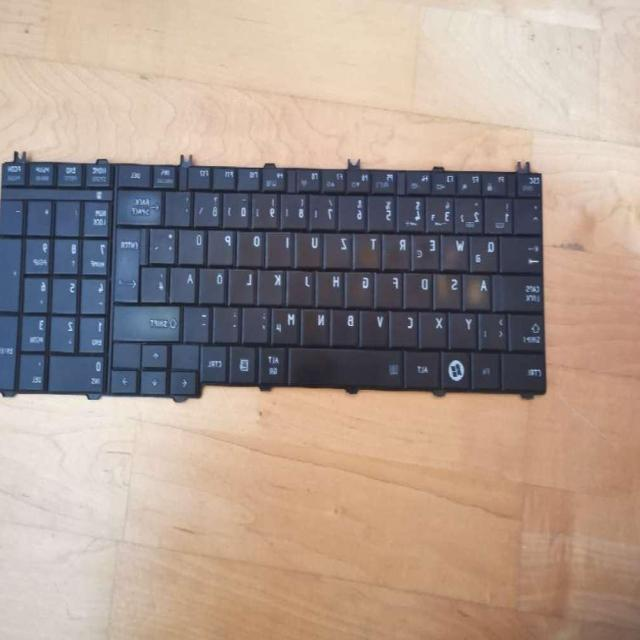0: (226, 188, 253, 226)
1: (488, 194, 516, 232)
2: (458, 193, 486, 231)
3: (429, 192, 457, 230)
4: (401, 193, 427, 229)
5: (371, 192, 399, 228)
6: (342, 191, 370, 229)
7: (313, 191, 339, 227)
8: (284, 190, 311, 226)
9: (255, 188, 282, 226)
a: (467, 271, 494, 307)
accent: (168, 186, 195, 224)
ae: (173, 263, 199, 301)
alt-left: (407, 347, 442, 386)
altgr-right: (262, 342, 290, 381)
b: (334, 306, 362, 344)
c: (394, 307, 421, 345)
caret: (518, 194, 544, 232)
comma: (246, 303, 272, 341)
d: (408, 268, 436, 306)
del: (120, 185, 166, 223)
e: (415, 230, 443, 268)
enter: (117, 221, 149, 299)
f: (379, 269, 405, 305)
g: (349, 267, 377, 305)
h: (319, 268, 347, 304)
hash: (144, 263, 170, 299)
i: (270, 228, 296, 264)
j: (290, 267, 316, 303)
k: (262, 266, 288, 302)
keyboard: (1, 154, 567, 401)
l: (232, 265, 258, 303)
less: (482, 309, 510, 347)
m: (275, 303, 303, 341)
minus: (187, 303, 213, 339)
n: (305, 305, 332, 343)
o: (242, 228, 268, 264)
oe: (203, 264, 229, 302)
p: (211, 226, 239, 264)
plus: (153, 224, 179, 260)
point: (217, 304, 243, 340)
q: (473, 232, 503, 270)
r: (386, 230, 414, 266)
s: (438, 269, 465, 307)
shift-left: (513, 311, 547, 349)
shift-lock: (497, 270, 547, 309)
shift-right: (116, 300, 186, 338)
space: (292, 344, 405, 385)
ss: (197, 188, 224, 224)
strg-left: (506, 348, 550, 390)
strg-right: (203, 341, 230, 380)
t: (358, 229, 384, 265)
tab: (505, 233, 545, 271)
u: (299, 228, 326, 266)
ue: (181, 225, 209, 263)
v: (364, 306, 392, 344)
w: (444, 231, 472, 269)
x: (422, 309, 450, 345)
y: (453, 308, 481, 346)
z: (328, 229, 356, 267)
